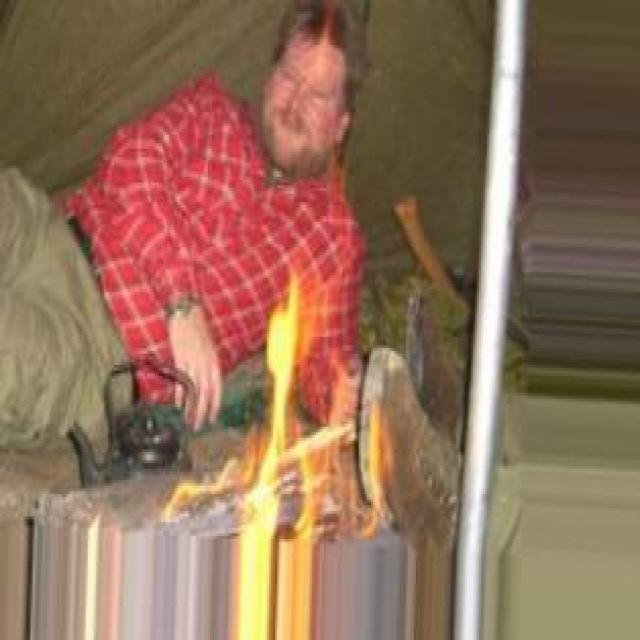fire: (189, 288, 386, 538)
